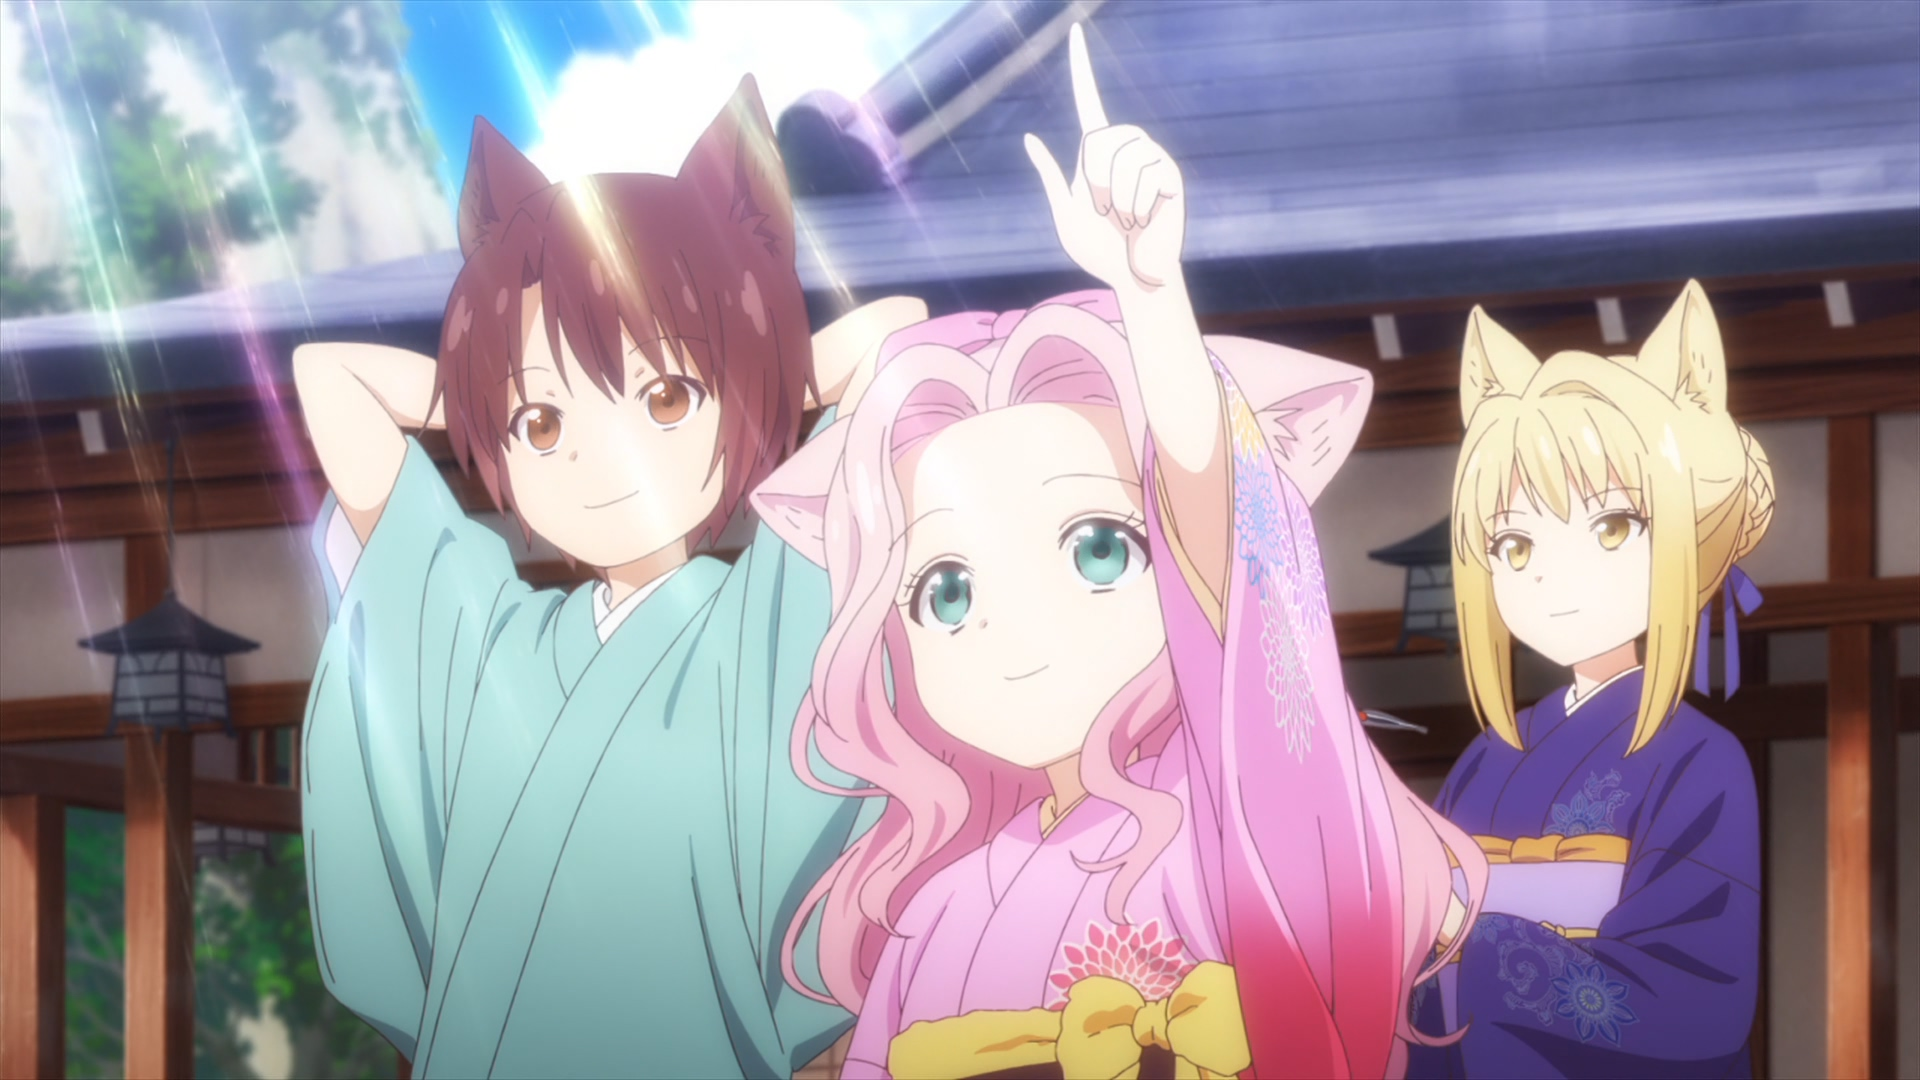枣: (291, 73, 927, 1080)
桐: (1414, 280, 1776, 1080)
樱: (749, 289, 1486, 1080)
